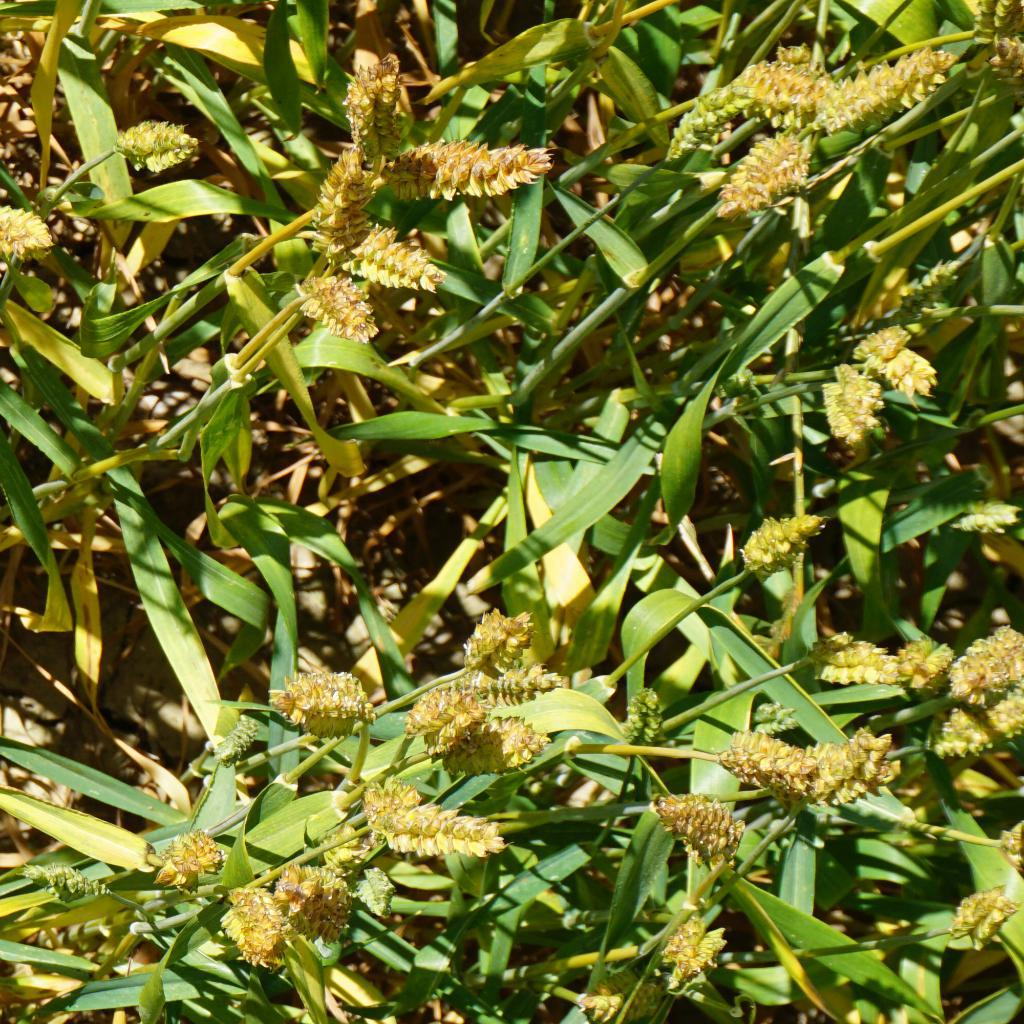0-0: (802, 40, 963, 139), (380, 124, 543, 206), (260, 666, 380, 744), (285, 265, 388, 355), (723, 44, 828, 127), (390, 798, 512, 868), (724, 722, 823, 805), (326, 214, 430, 293), (650, 81, 739, 173), (734, 507, 837, 586), (646, 790, 748, 869), (263, 858, 353, 945), (342, 50, 409, 165), (718, 140, 808, 221), (13, 846, 124, 910), (929, 691, 1024, 765), (811, 730, 909, 796), (653, 911, 732, 991), (308, 158, 374, 249), (346, 765, 427, 838), (572, 959, 661, 1024), (457, 716, 543, 782), (227, 878, 284, 974), (147, 819, 228, 885), (816, 358, 876, 447), (112, 115, 198, 175), (823, 625, 892, 698), (454, 610, 537, 670), (0, 195, 68, 265), (414, 677, 481, 745), (951, 623, 1024, 685), (951, 879, 1017, 947), (896, 259, 960, 328), (474, 660, 564, 709), (840, 316, 915, 368), (882, 347, 954, 401), (967, 0, 1013, 84), (612, 677, 662, 754), (314, 822, 367, 894), (891, 629, 950, 691), (215, 703, 266, 772), (941, 496, 1023, 536), (342, 859, 393, 920), (749, 694, 804, 744)
